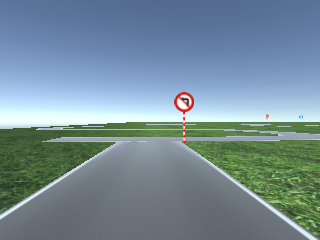-5: (1, 185, 320, 239)
NoLeft: (174, 92, 195, 112)
